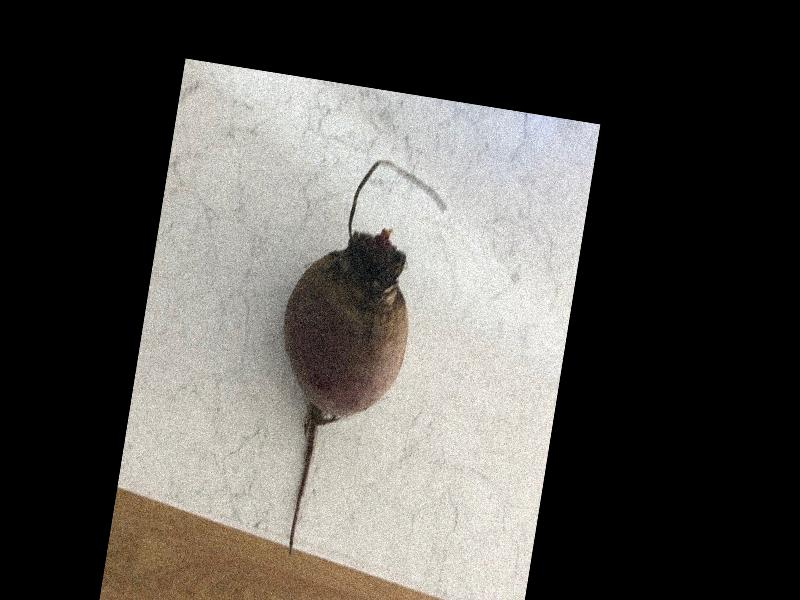Beet: (247, 150, 450, 572)
